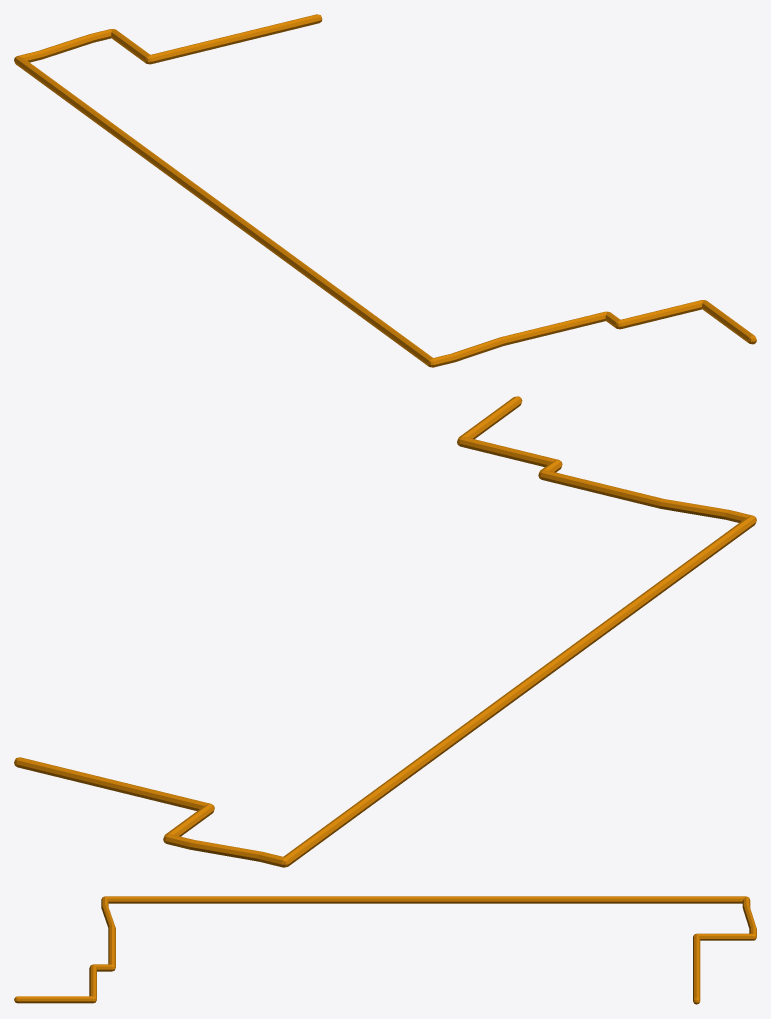
3 renders of one model, top to bottom at view 1: azimuth 30°, elevation 25°; view 2: azimuth 150°, elevation 25°; view 3: azimuth 270°, elevation 25°, orthographic. The views are drawn at different scales.
Size of the model in its own units: 654 by 20 by 1969.
